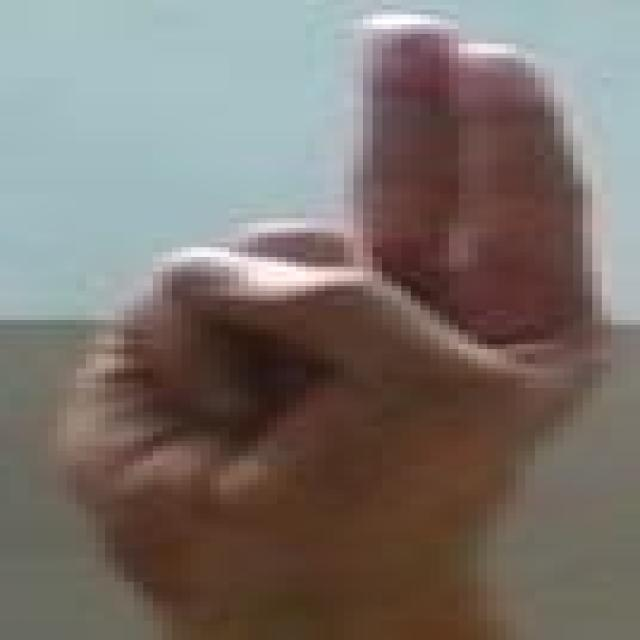U: (0, 5, 630, 640)
